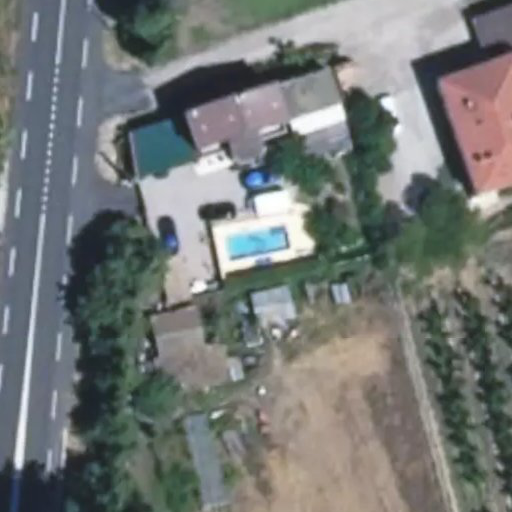pool: (221, 235, 290, 248)
